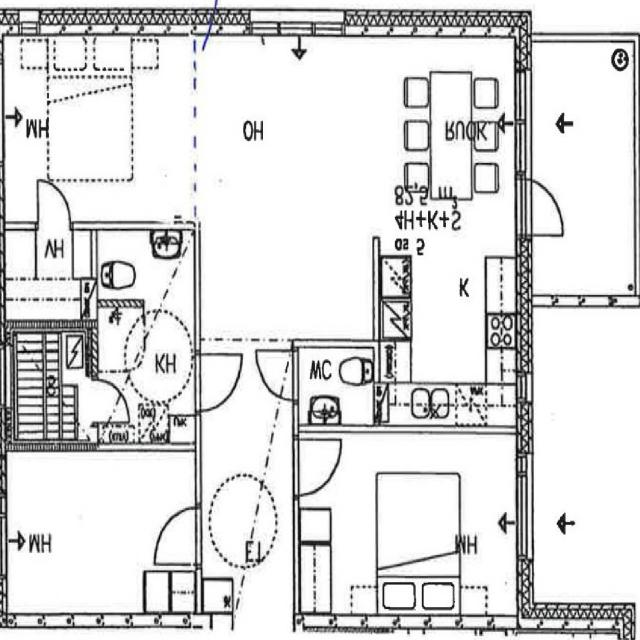door: (515, 180, 574, 234), (152, 507, 202, 563), (195, 354, 244, 411), (293, 439, 342, 495), (256, 350, 299, 400), (87, 380, 128, 422), (37, 178, 70, 228)
